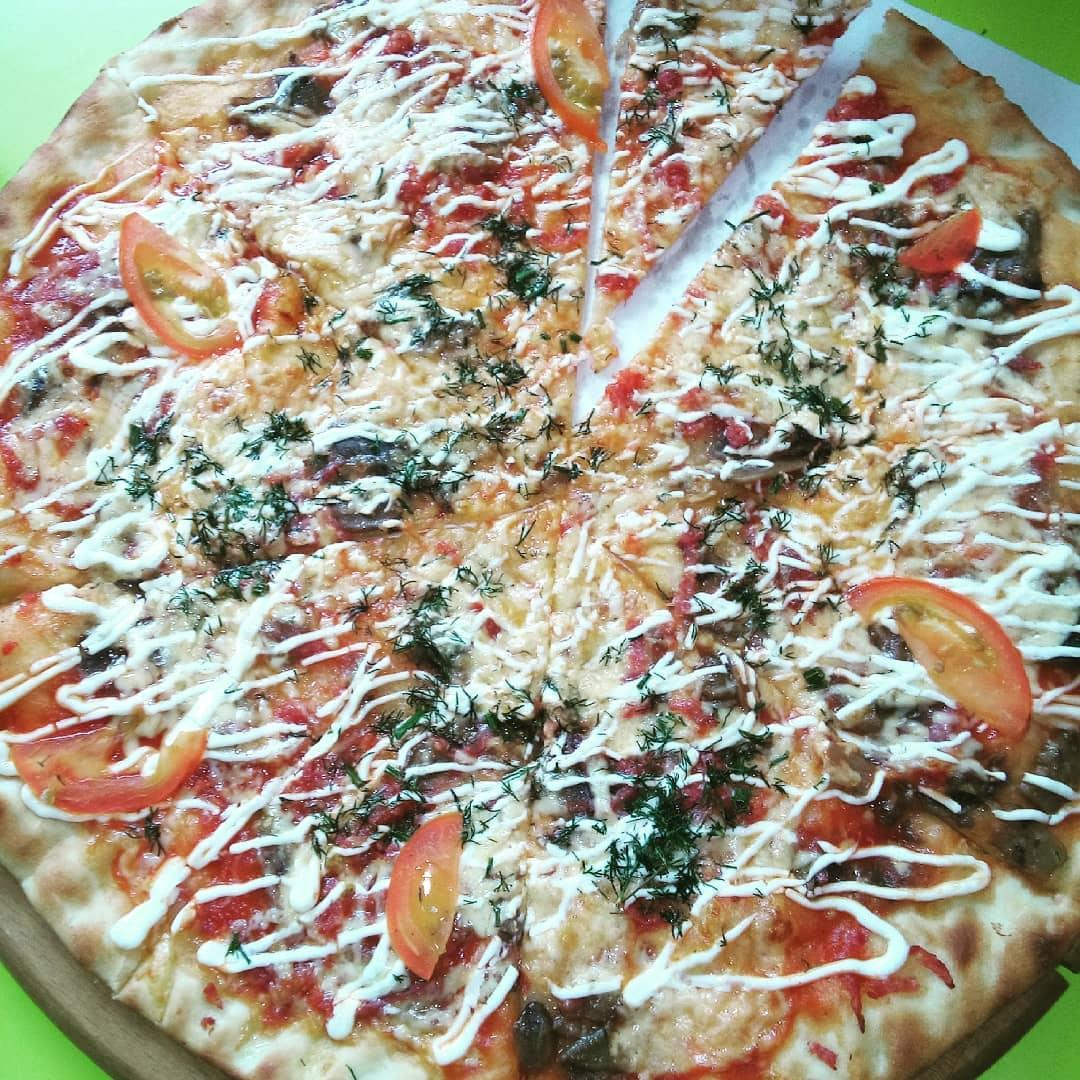Pizza: (9, 7, 1080, 1080)
Tomatoes: (849, 561, 1036, 765), (3, 689, 208, 812), (115, 213, 249, 364), (525, 5, 629, 139), (389, 811, 473, 973), (900, 200, 980, 277)
